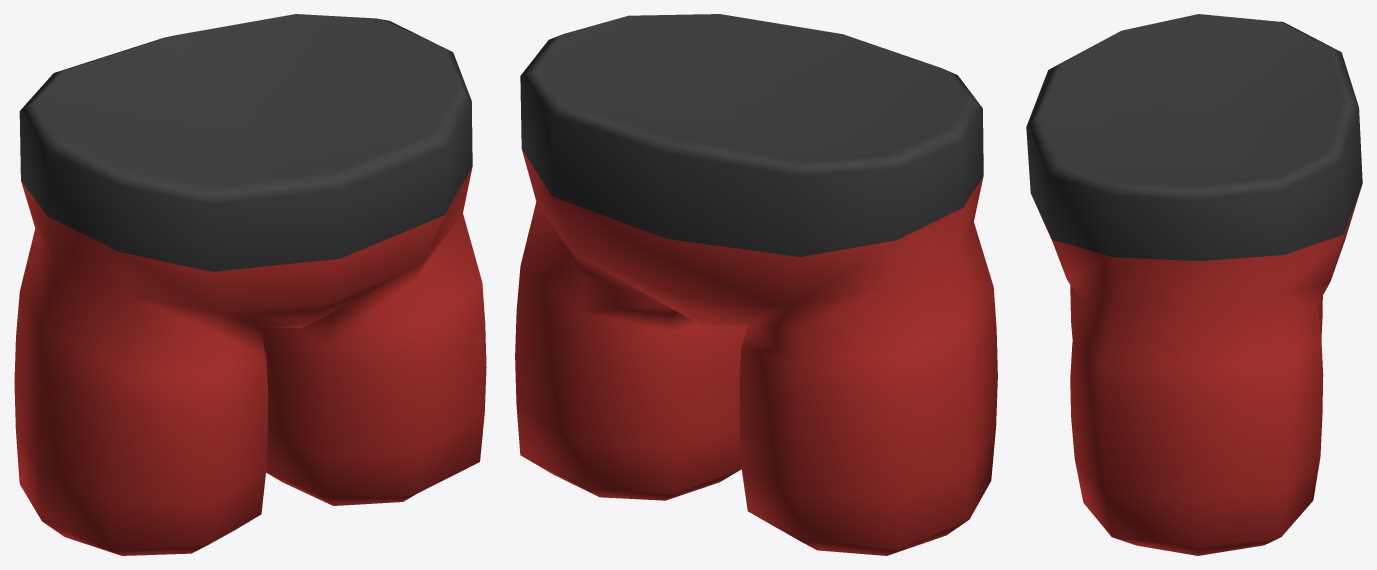
Rendered from Bottom_46.fbx.
3 renders of one model, left to right at view 1: azimuth 30°, elevation 25°; view 2: azimuth 150°, elevation 25°; view 3: azimuth 270°, elevation 25°, orthographic. The views are drawn at different scales.
Parts seen in each view (by area): view 1: Bottom_46; view 2: Bottom_46; view 3: Bottom_46.
Boxes of the visible parts, x1,y1,x2,y2 form: Bottom_46: [14, 14, 486, 555]; Bottom_46: [515, 14, 997, 555]; Bottom_46: [1026, 14, 1362, 555].
Bounding box in the file's own units: 39.97 × 36.42 × 29.68.
